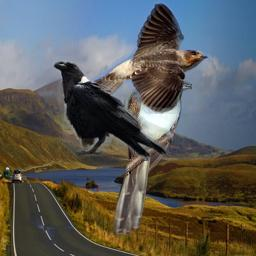Crow: (53, 56, 169, 161)
Cuckoo: (113, 71, 192, 235)
Swallow: (88, 1, 212, 114)
